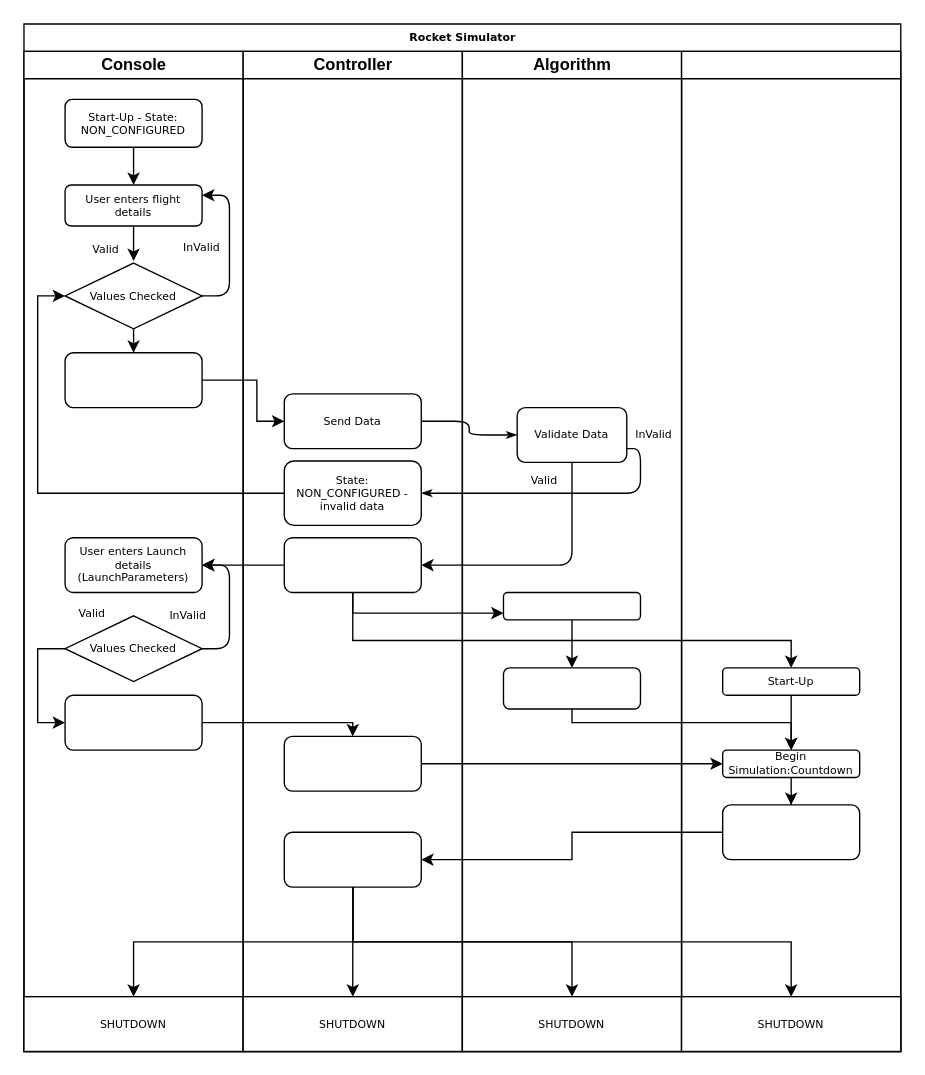
This 925x1075 diagram has some shape labels left out. Here are the shapes that lost their labels. From the top down, the box of each, then its label:
(64, 351, 202, 408): State: CONFIGURED, Send Terrain, Rocket and State
(283, 536, 421, 593): Set state to State: READY
(680, 50, 901, 1051): Graphics
(502, 591, 640, 620): Run Algo
(502, 667, 640, 709): Send Algo Data
(64, 694, 202, 750): State: LAUNCH, Send Launch and State
(283, 735, 421, 791): Begin Launch:Countdown
(721, 804, 860, 860): Run Simulation
(283, 831, 421, 887): State: SHUTDOWN, send State
